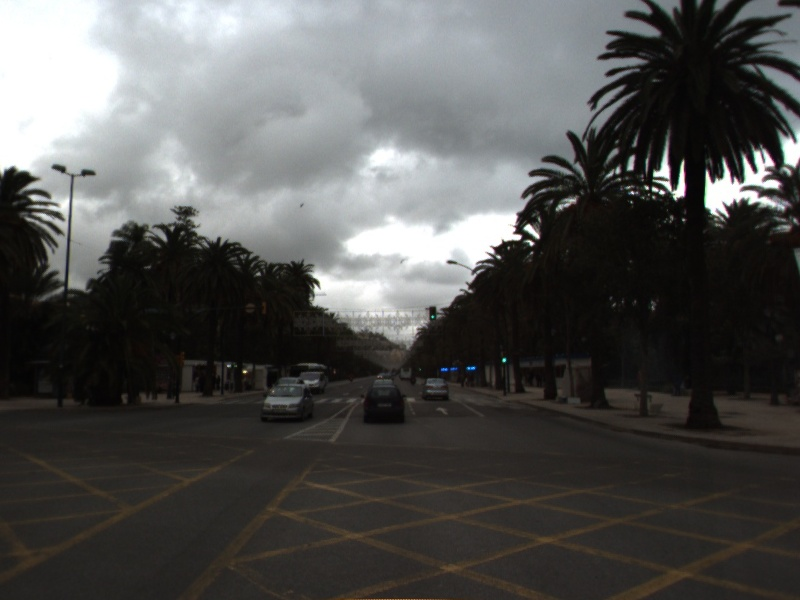STRAIGHT: (433, 405, 451, 417)
